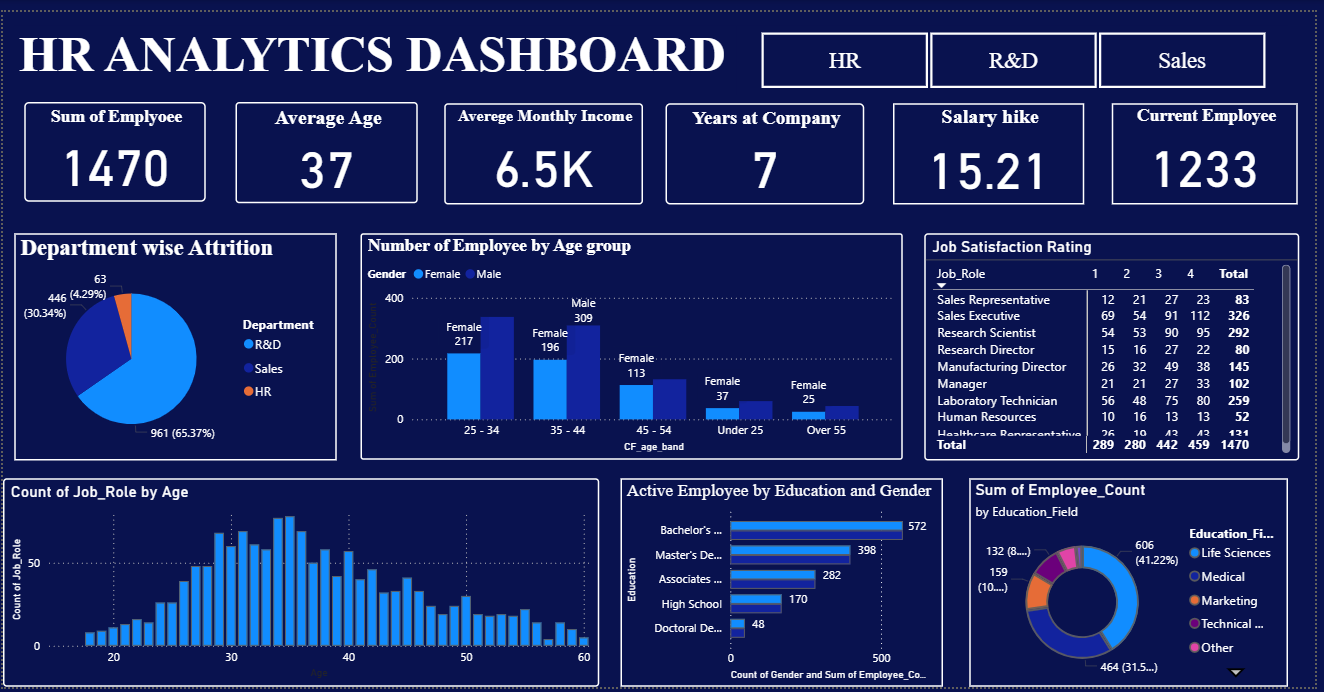

Layout of this report page (visuals, bound fields, positions):
{"tool":"powerbi","page":{"name":"Page 1","canvas":[1400,720],"ordinal":0},"visuals":[{"type":"textbox","title":"HR ANALYTICS DASHBOARD","box":[12,14.7,772,64],"z":0},{"type":"pieChart","title":"Department wise Attrition","fields":{"Category":["HR Data xlsx - HR data.Department"],"Y":["Sum(HR Data xlsx - HR data.Employee_Count)"]},"box":[12,236,344,242.7],"z":1000},{"type":"clusteredColumnChart","title":"Number of Employee by Age group","fields":{"Category":["HR Data xlsx - HR data.CF_age_band"],"Series":["HR Data xlsx - HR data.Gender"],"Y":["Sum(HR Data xlsx - HR data.Employee_Count)"]},"box":[381.3,236,578.7,241.3],"z":2000},{"type":"pivotTable","title":"Job Satisfaction Rating","fields":{"Rows":["HR Data xlsx - HR data.Job_Role"],"Columns":["HR Data xlsx - HR data.Job_Satisfaction"],"Values":["CountNonNull(HR Data xlsx - HR data.AttritionCount)"]},"box":[982.7,236,400,242.7],"z":3000},{"type":"clusteredBarChart","title":"Active Employee by Education and Gender","fields":{"Category":["HR Data xlsx - HR data.Education"],"Y":["CountNonNull(HR Data xlsx - HR data.Gender)","Sum(HR Data xlsx - HR data.Employee_Count)"]},"box":[658.7,497.3,344,222.7],"z":4000},{"type":"donutChart","fields":{"Category":["HR Data xlsx - HR data.Education_Field"],"Y":["Sum(HR Data xlsx - HR data.Employee_Count)"]},"box":[1030.7,497.3,340,222.7],"z":5000},{"type":"card","title":"Sum of Emplyoee","fields":{"Values":["Sum(HR Data xlsx - HR data.Employee_Count)"]},"box":[22.7,96,193.3,106.7],"z":6000},{"type":"card","title":"Salary hike","fields":{"Values":["Avg(HR Data xlsx - HR data.Percent_Salary_Hike)"]},"box":[949.3,97.3,204,108],"z":7000},{"type":"card","title":"Average Age","fields":{"Values":["Avg(HR Data xlsx - HR data.Age)"]},"box":[248,96,194.7,108],"z":8000},{"type":"card","title":"Averege Monthly Income","fields":{"Values":["Avg(HR Data xlsx - HR data.Monthly_Income)"]},"box":[470.7,97.3,212,108],"z":9000},{"type":"card","title":"Years at Company","fields":{"Values":["Avg(HR Data xlsx - HR data.Years_At_Company)"]},"box":[706.7,97.3,212,108],"z":10000},{"type":"columnChart","fields":{"Y":["CountNonNull(HR Data xlsx - HR data.Job_Role)"],"Category":["HR Data xlsx - HR data.Age"]},"box":[0,497.3,636,222.7],"z":11000},{"type":"slicer","fields":{"Values":["HR Data xlsx - HR data.Department"]},"box":[782.7,14.7,588,73.3],"z":12000},{"type":"card","title":"Current Employee","fields":{"Values":["Sum(HR Data xlsx - HR data.CF_current_Employee)"]},"box":[1182.7,97.3,198.7,108],"z":13000}]}

Visuals, with their boxes in screenshot pixels (x1, y1, x2, y2), scaled from the page's 1400x720 canvas onto the 1324x692 screenshot:
"HR ANALYTICS DASHBOARD" textbox: box(11, 14, 741, 76)
"Department wise Attrition" pieChart: box(11, 227, 337, 460)
"Number of Employee by Age group" clusteredColumnChart: box(361, 227, 908, 459)
"Job Satisfaction Rating" pivotTable: box(929, 227, 1308, 460)
"Active Employee by Education and Gender" clusteredBarChart: box(623, 478, 948, 691)
donutChart - HR Data xlsx - HR data.Education_Field x Sum(HR Data xlsx - HR data.Employee_Count): box(975, 478, 1296, 691)
"Sum of Emplyoee" card: box(21, 92, 204, 195)
"Salary hike" card: box(898, 94, 1091, 197)
"Average Age" card: box(235, 92, 419, 196)
"Averege Monthly Income" card: box(445, 94, 646, 197)
"Years at Company" card: box(668, 94, 869, 197)
columnChart - CountNonNull(HR Data xlsx - HR data.Job_Role) x HR Data xlsx - HR data.Age: box(0, 478, 601, 691)
slicer - HR Data xlsx - HR data.Department: box(740, 14, 1296, 85)
"Current Employee" card: box(1118, 94, 1306, 197)
